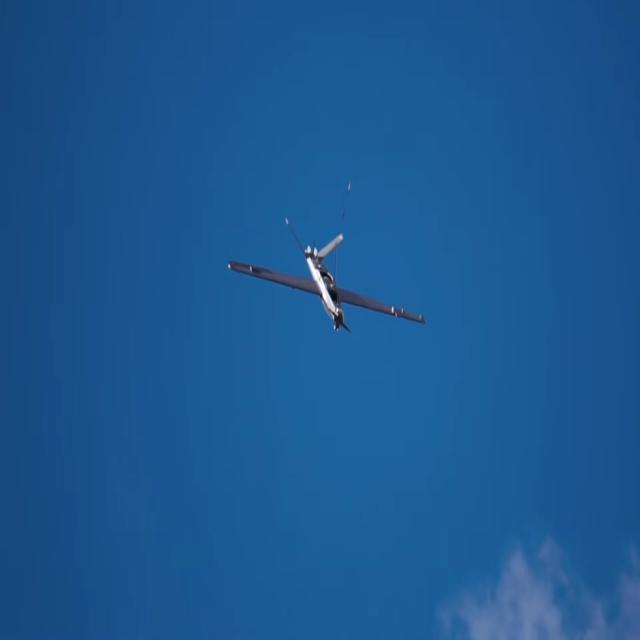iha: (230, 252, 422, 303)
